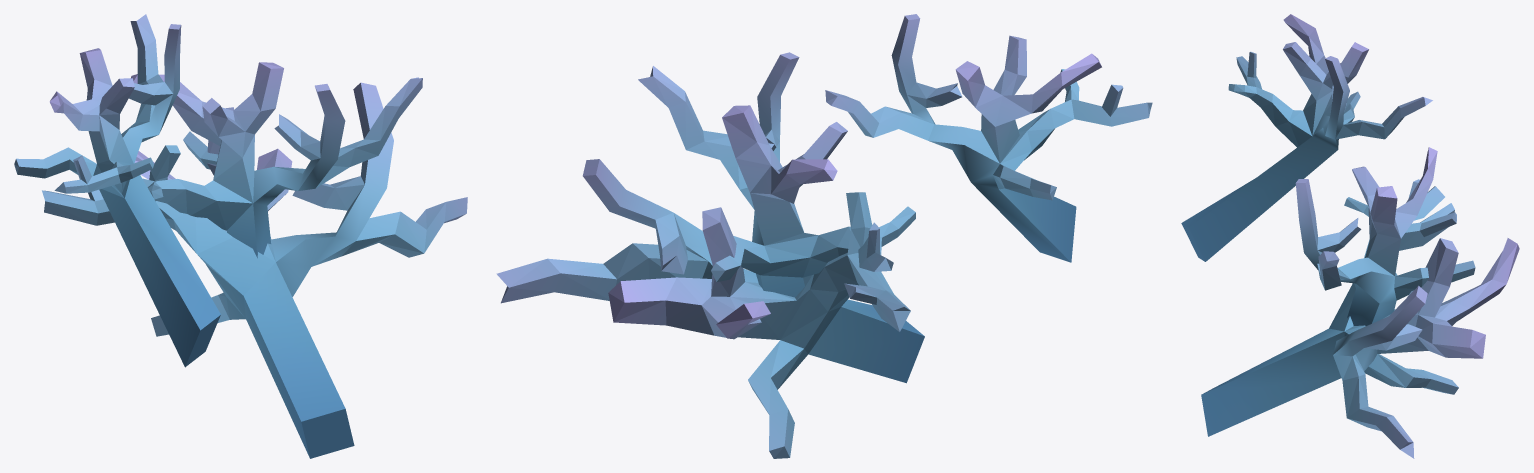
File: Coral_010.FBX
3 views of the same model, side by side, from view 1: azimuth 30°, elevation 25°; view 2: azimuth 150°, elevation 25°; view 3: azimuth 270°, elevation 25° (orthographic). The views are drawn at different scales.
Visible parts, largest first — view 1: Coral_010; view 2: Coral_010; view 3: Coral_010.
Boxes of the visible parts, x1=… form: Coral_010: x1=14, y1=14, x2=467, y2=458; Coral_010: x1=496, y1=14, x2=1152, y2=458; Coral_010: x1=1181, y1=14, x2=1519, y2=458.
Bounding box in the file's own units: 7 × 5.3 × 4.75.
